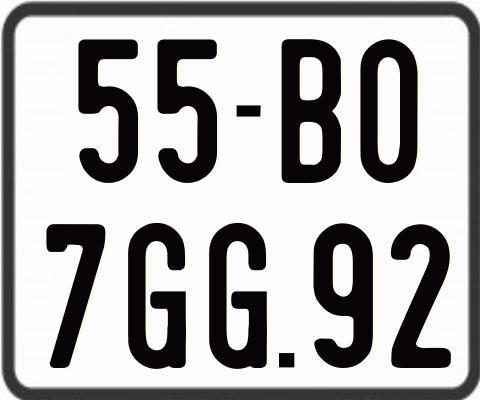0: (358, 38, 417, 184)
2: (388, 223, 454, 372)
5: (77, 39, 143, 188), (155, 36, 217, 183)
7: (45, 221, 107, 368)
9: (310, 220, 373, 370)
B: (282, 39, 341, 183)
G: (128, 223, 191, 371), (207, 223, 266, 375)
